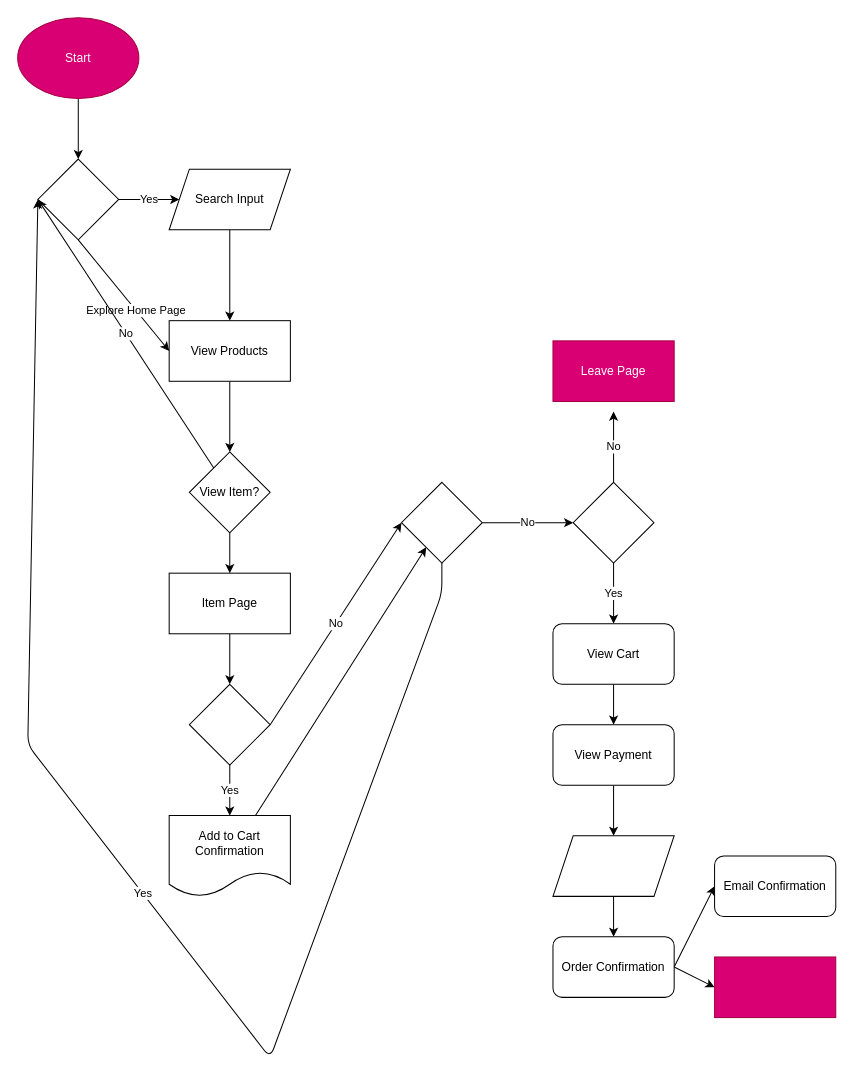
The diagram is 853 pixels wide and 1084 high, and some of its shapes have lost their labels. Here are the shapes that lost their labels. From the top down, the box of each, then its label:
(37, 158, 119, 240): Search for Product?
(400, 481, 482, 563): Continue Shoppong?
(572, 481, 654, 563): Checkout?
(188, 683, 270, 765): Add to Cart?
(552, 835, 674, 896): Payment Info
(714, 956, 836, 1018): User Leaves Website
